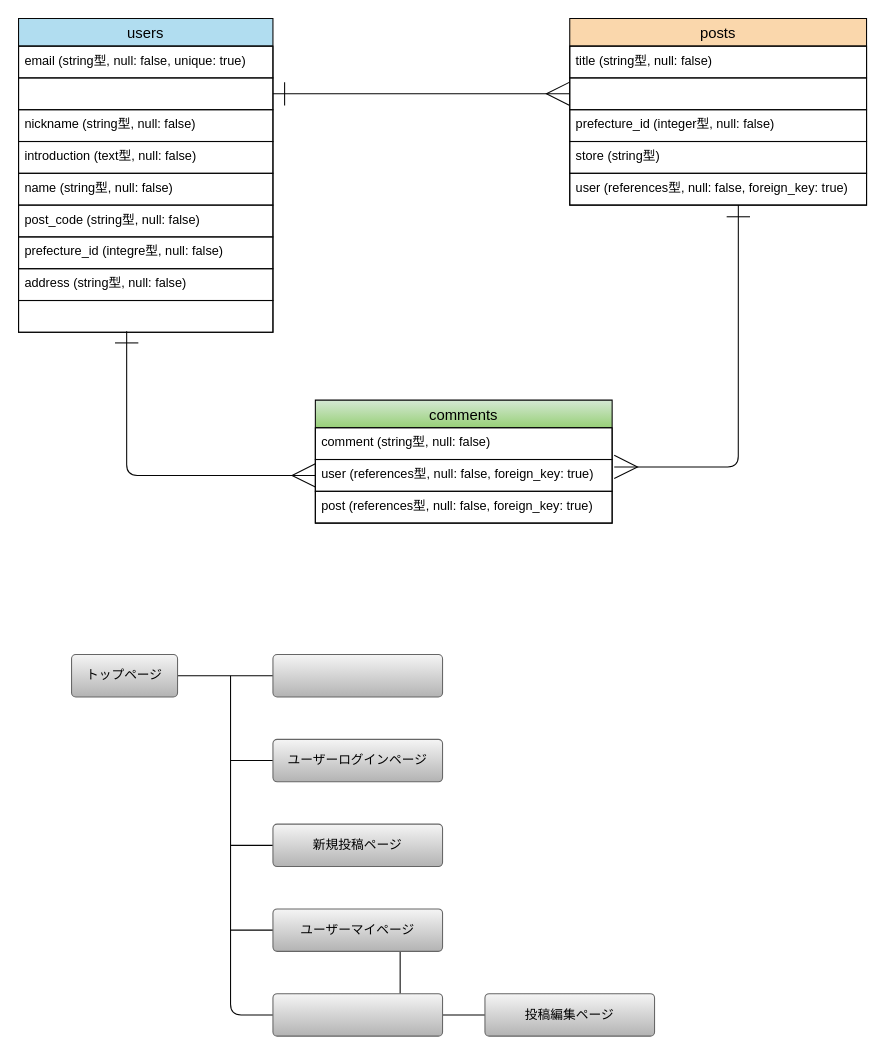
The diagram is 885 pixels wide and 1055 high, and some of its shapes have lost their labels. The shapes that lost their labels are listed below. From the top down, each one's centre as x and y in pixels, then its label:
At point (145, 93): "encrypted_password (string型, null: false)".
At point (718, 93): "text (text型, null: false)".
At point (145, 315): "telephone (string型, null: false)".
At point (357, 675): "ユーザー新規登録ページ".
At point (357, 1014): "投稿詳細ページ".
